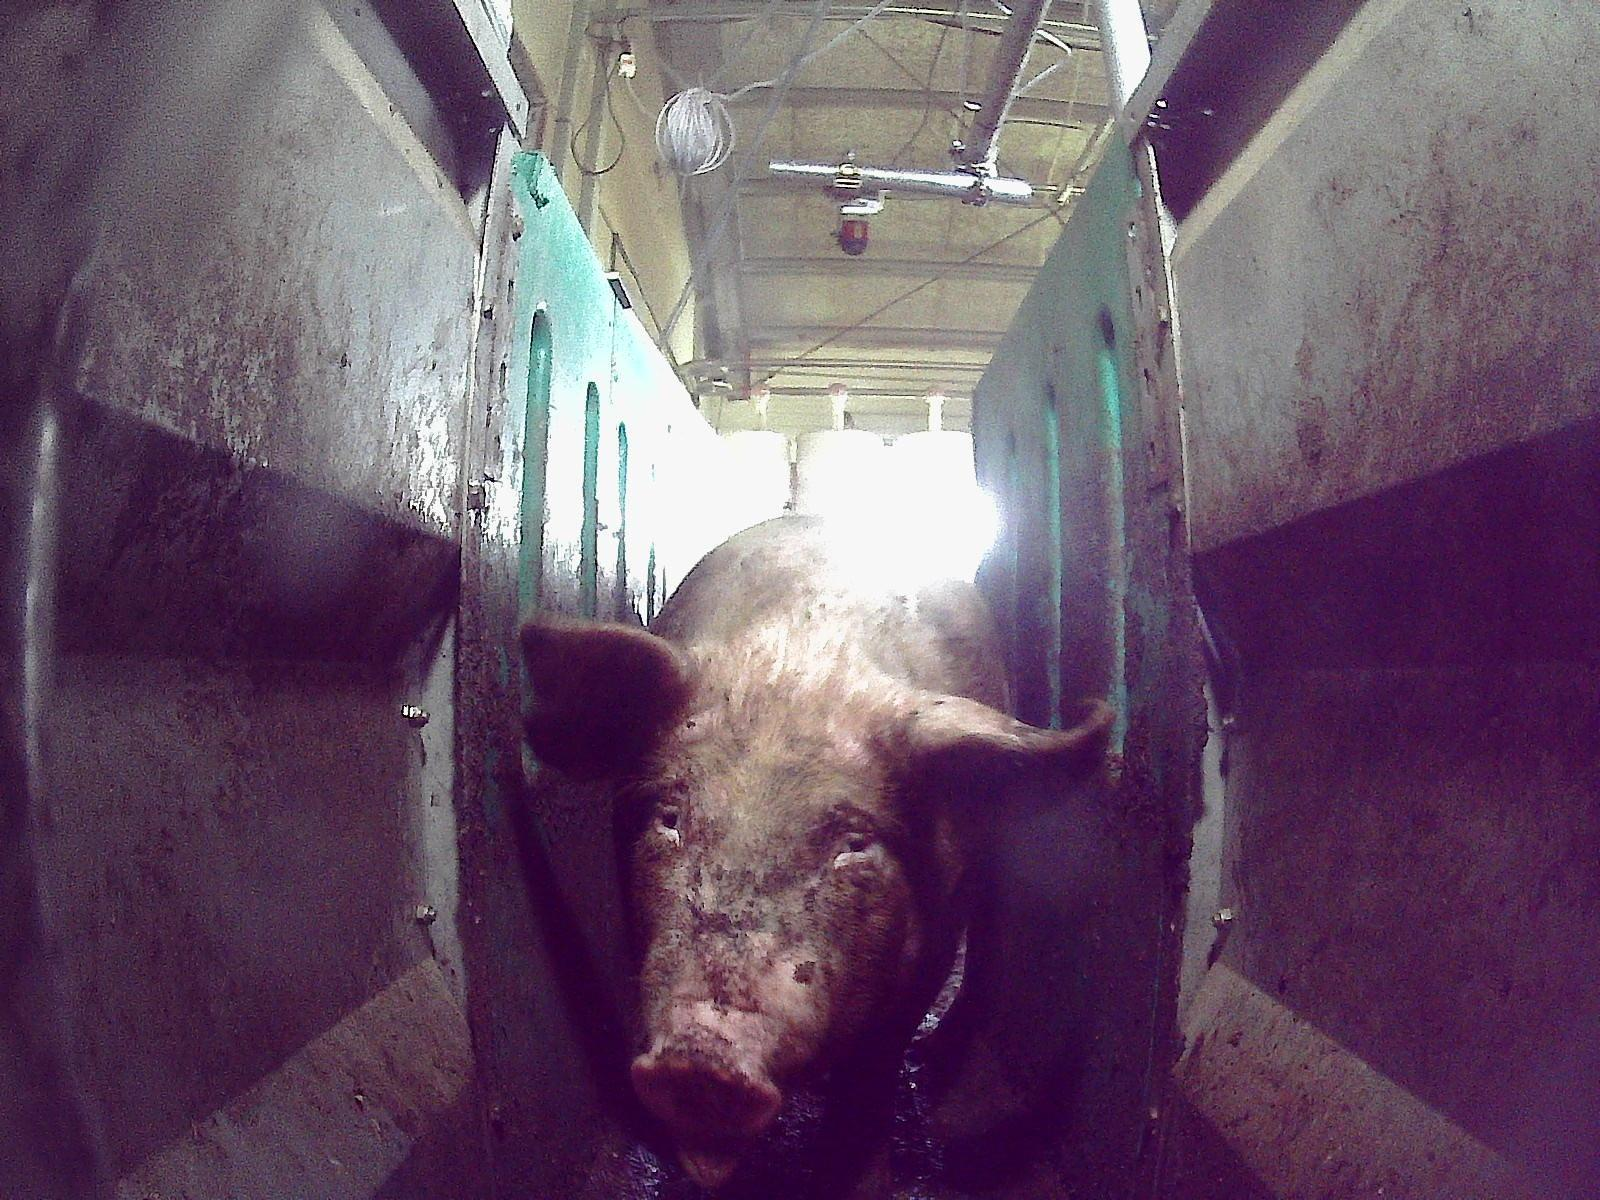Face: (625, 669, 928, 1185)
